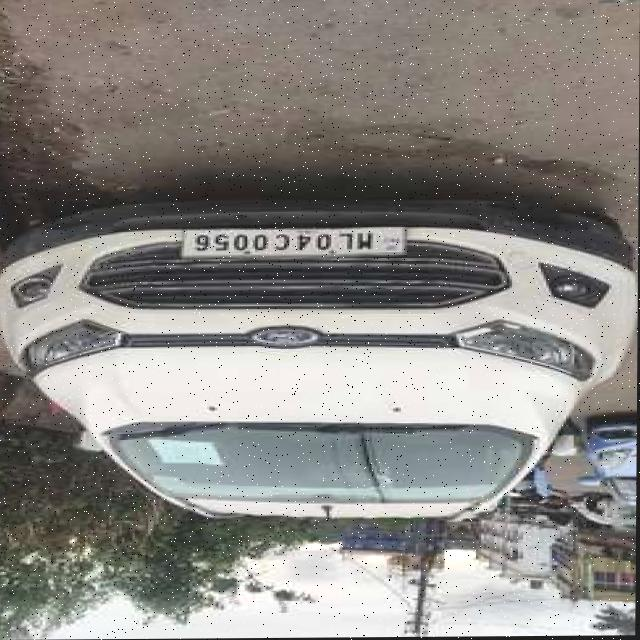plate: (178, 227, 407, 259)
